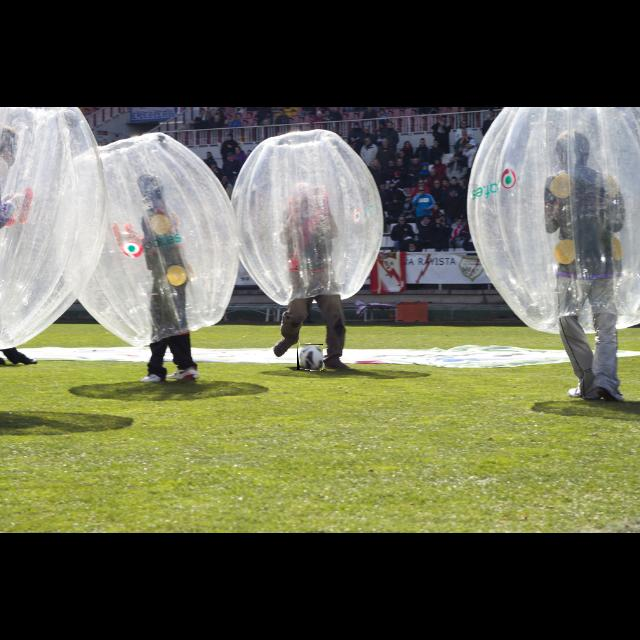Football: (297, 344, 323, 370)
